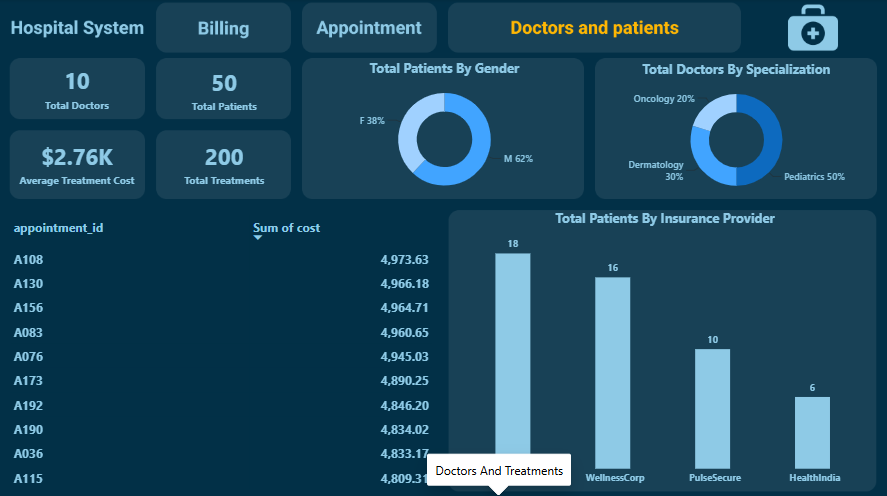

This screenshot's page, from the dashboard's own definition file:
{"tool":"powerbi","page":{"name":"Doctors And Treatments","canvas":[1280,720],"ordinal":3},"visuals":[{"type":"tableEx","title":"Top 10 Appointments Cost By Treatment","fields":{"Values":["Fact Treatment.appointment_id","Sum(Fact Treatment.cost)"]},"box":[10,305,620,415],"z":0},{"type":"card","fields":{"Values":["Dax.Average Treatment Cost"]},"box":[17.5,190,190,93.8],"z":1000},{"type":"card","fields":{"Values":["Dax.Total Doctors"]},"box":[17.5,83.8,190,88.8],"z":2000},{"type":"card","fields":{"Values":["Dax.Total Patients"]},"box":[227.5,87.5,193.8,85],"z":3000},{"type":"card","fields":{"Values":["Dax.Total Treatments"]},"box":[227.5,190,193.8,93.8],"z":4000},{"type":"donutChart","title":"Total Doctors By Specialization","fields":{"Category":["Dim Doctors.specialization"],"Y":["Dax.Total Doctors"]},"box":[858.8,87.5,407.5,205],"z":5000},{"type":"donutChart","title":"Total Patients By Gender","fields":{"Category":["Dim Patients.gender"],"Y":["Dax.Total Patients"]},"box":[437.5,86.2,407.5,206.2],"z":6000},{"type":"clusteredColumnChart","title":"Total Patients By Insurance Provider","fields":{"Y":["Dax.Total Patients"],"Category":["Dim Patients.insurance_provider"]},"box":[652,303,614,405],"z":7000},{"type":"actionButton","box":[227.3,7.3,192.7,69.1],"z":8000},{"type":"actionButton","box":[437.3,7.3,192.7,69.1],"z":9000}]}

Visuals, with their boxes in screenshot pixels (x1, y1, x2, y2), scaled from the page's 1280x720 canvas onto the 887x496 screenshot:
"Top 10 Appointments Cost By Treatment" tableEx: box(7, 210, 437, 495)
card - Dax.Average Treatment Cost: box(12, 131, 144, 196)
card - Dax.Total Doctors: box(12, 58, 144, 119)
card - Dax.Total Patients: box(158, 60, 292, 119)
card - Dax.Total Treatments: box(158, 131, 292, 196)
"Total Doctors By Specialization" donutChart: box(595, 60, 878, 202)
"Total Patients By Gender" donutChart: box(303, 59, 586, 201)
"Total Patients By Insurance Provider" clusteredColumnChart: box(452, 209, 877, 488)
actionButton: box(158, 5, 291, 53)
actionButton: box(303, 5, 437, 53)
